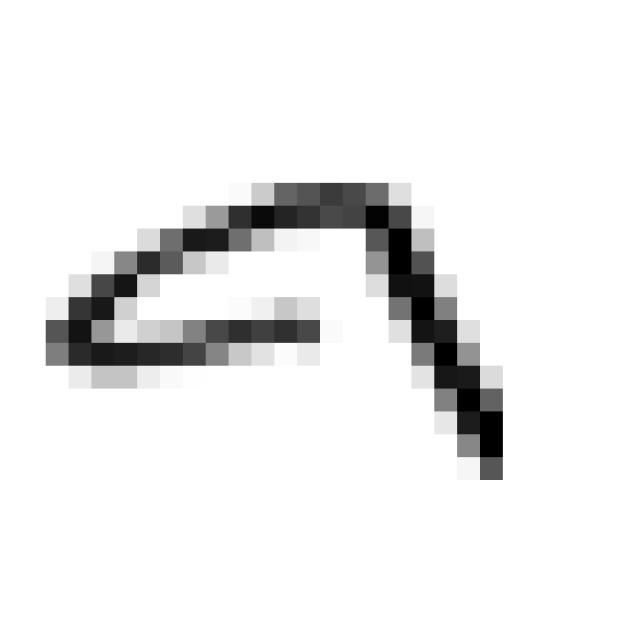9 -nine-: (28, 156, 522, 495)
